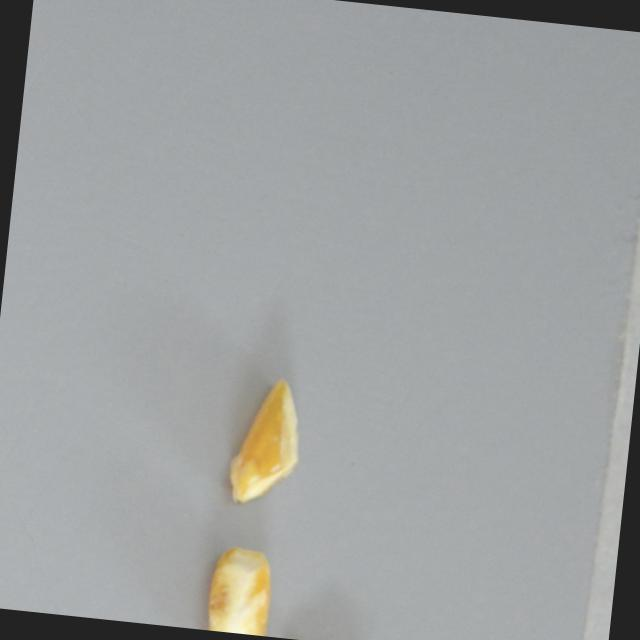pelicula: (224, 372, 308, 508), (202, 540, 276, 636)
